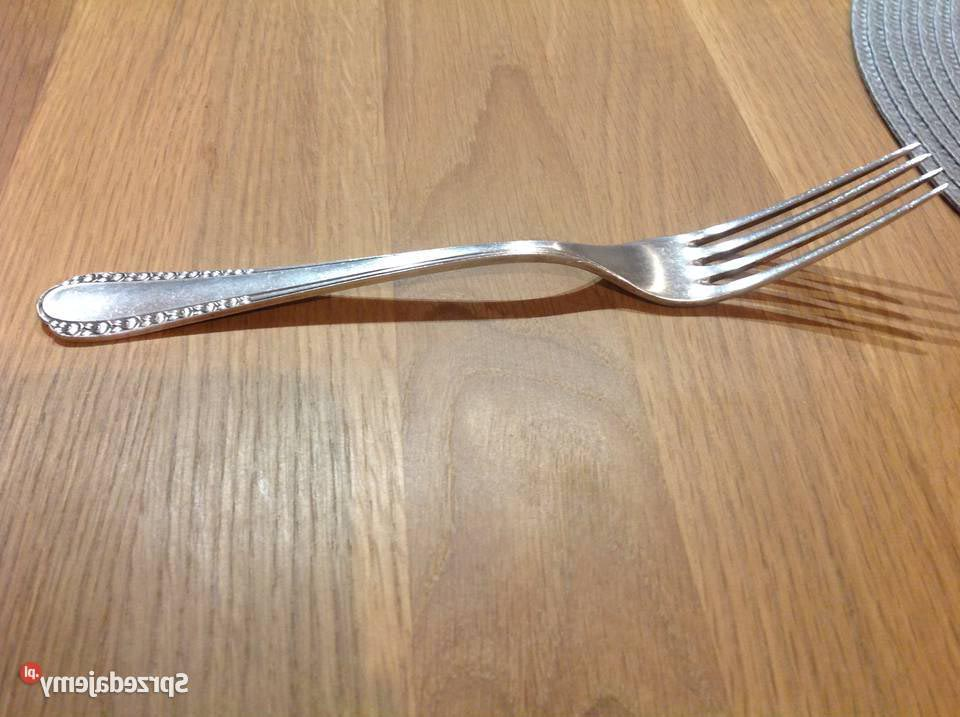Widelec: (601, 138, 950, 314)
